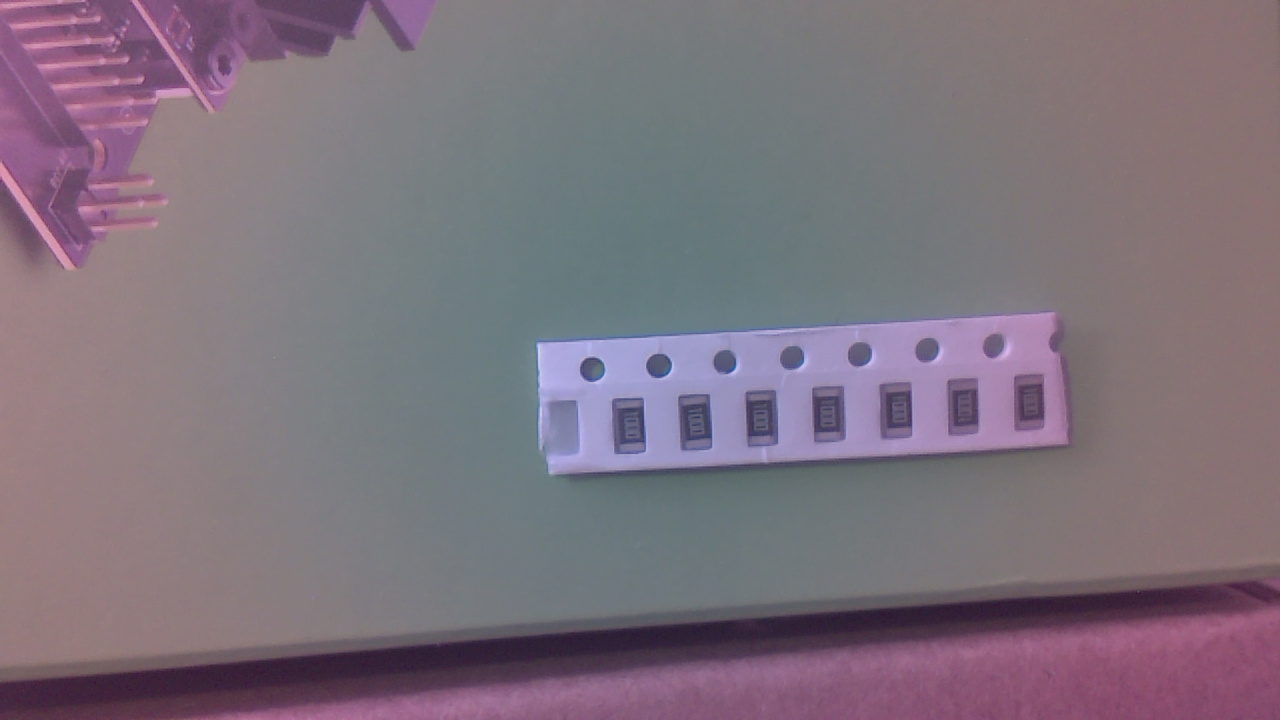Resistor: (884, 387, 919, 445), (617, 403, 651, 460), (953, 380, 985, 440), (1019, 379, 1051, 439), (816, 392, 851, 446), (684, 397, 716, 454), (752, 395, 784, 449)
